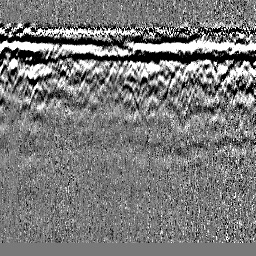cavity: (112, 79, 139, 111)
